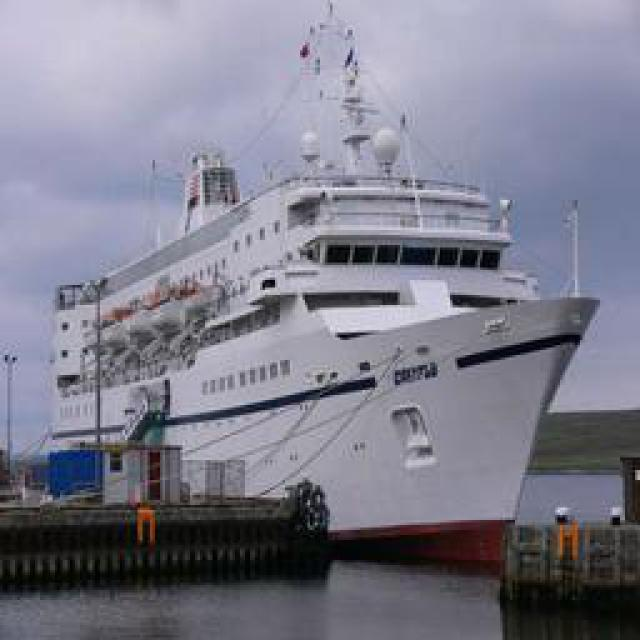Ship: (61, 71, 594, 549)
